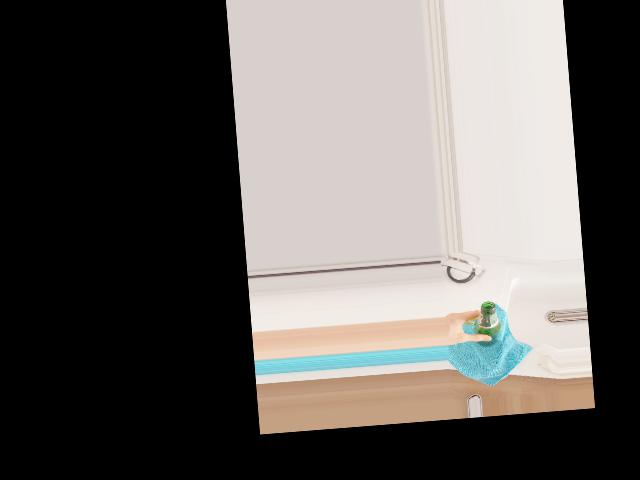beer: (473, 301, 502, 348)
